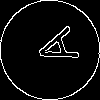A: (25, 25, 80, 72)
